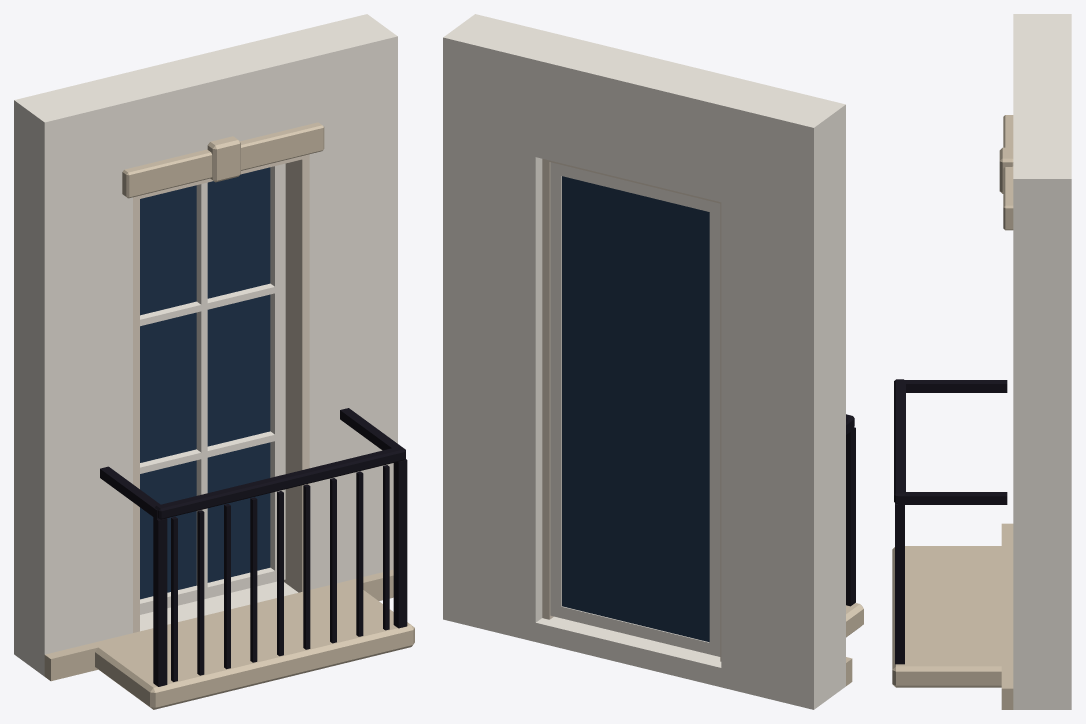
The model's file is window_balcony.glb.
The picture shows the model from 3 angles, left to right: view 1: azimuth 30°, elevation 25°; view 2: azimuth 150°, elevation 25°; view 3: azimuth 270°, elevation 25°; orthographic projection. The views are drawn at different scales.
Parts seen in each view (by area): view 1: window_balcony; view 2: window_balcony; view 3: window_balcony.
Boxes of the visible parts, x1,y1,x2,y2 form: window_balcony: [14, 14, 414, 709]; window_balcony: [443, 14, 863, 709]; window_balcony: [892, 14, 1071, 709].
Size of the model in its own units: 2 by 3 by 0.92.
3 materials, 3 textured.
